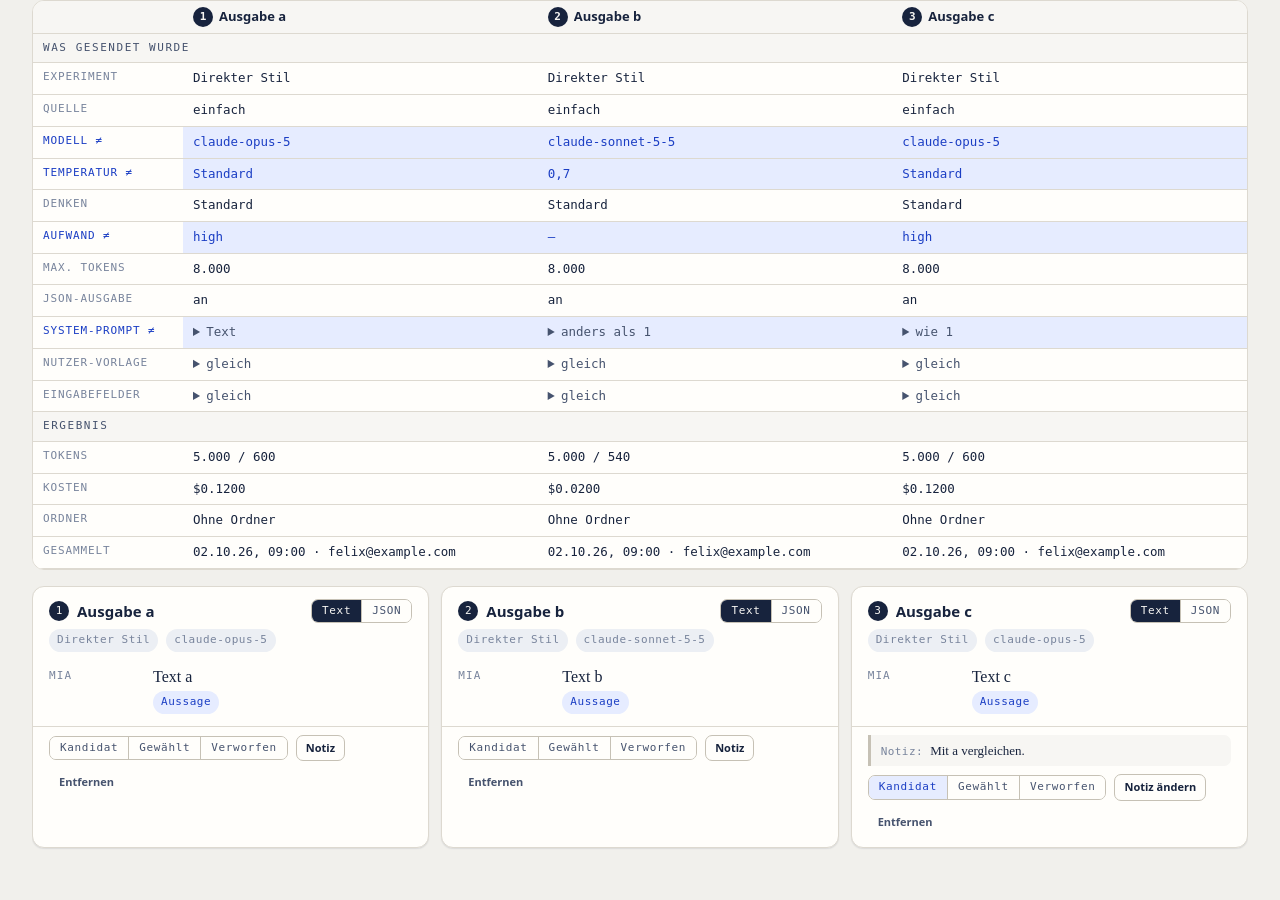
compare view › drops a column from the link, but keeps at least two
(page scrolled)
Click the button "Entfernen" below "Mit a vergleichen." at point(905, 822), box [868,809,943,835]
(page scrolled)
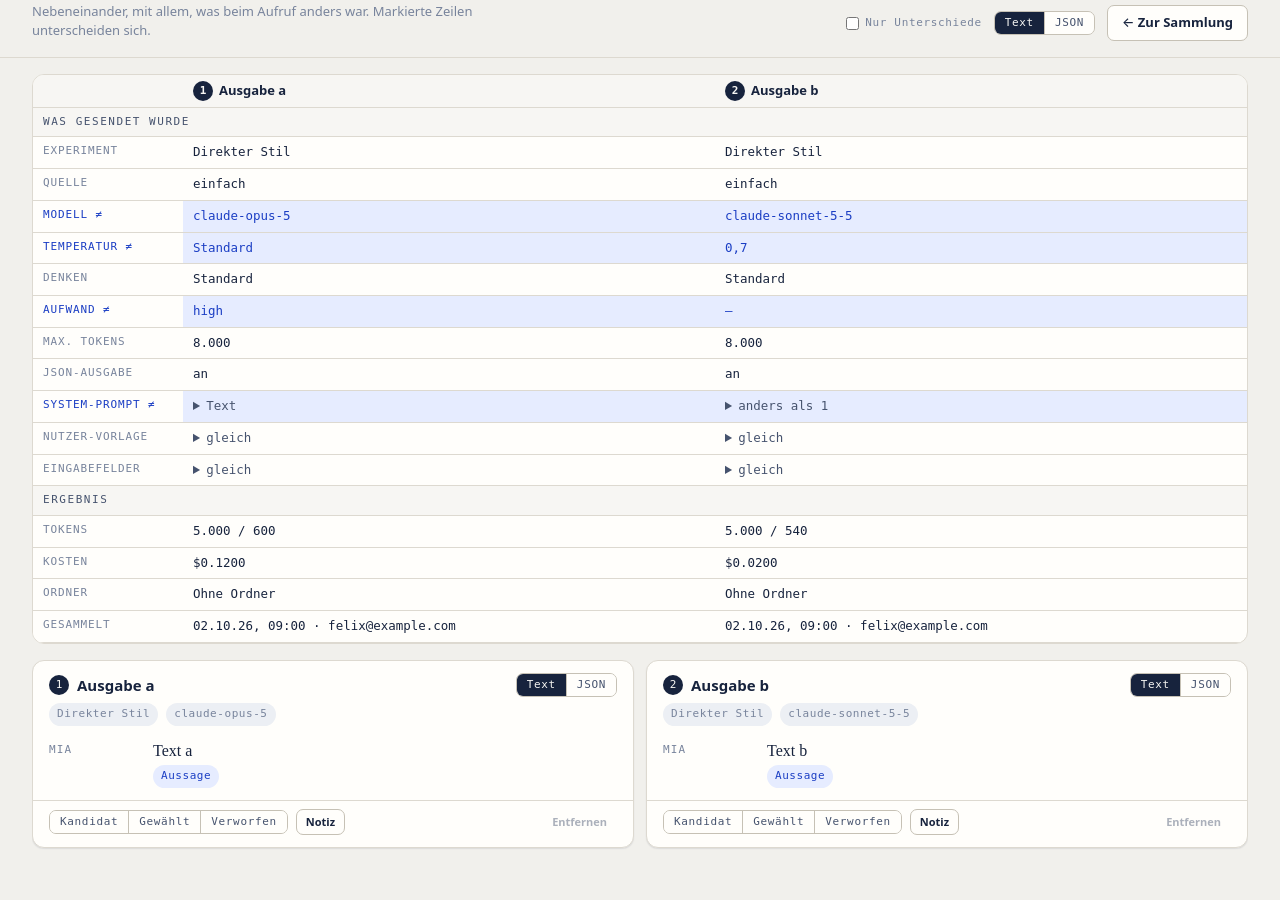
Now the number of elements with class "out" is 2, box [32,660,634,848]; [646,660,1248,848]
